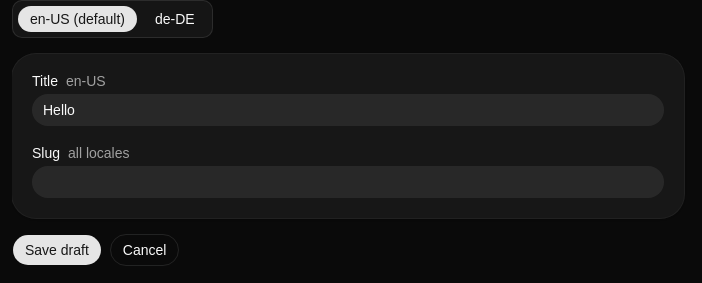
Test case: EntryForm validation and fallbacks › shows a fallback hint when a locale inherits from the default
Click the button "de-DE" at (175, 19), box [142,5,208,33]
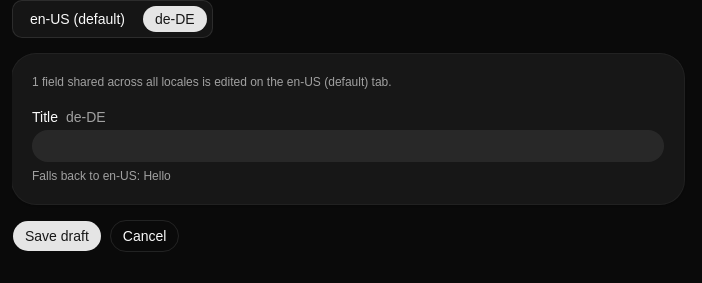
Result: the text "Falls back to en-US: Hello" is shown at [32,169,171,183]
